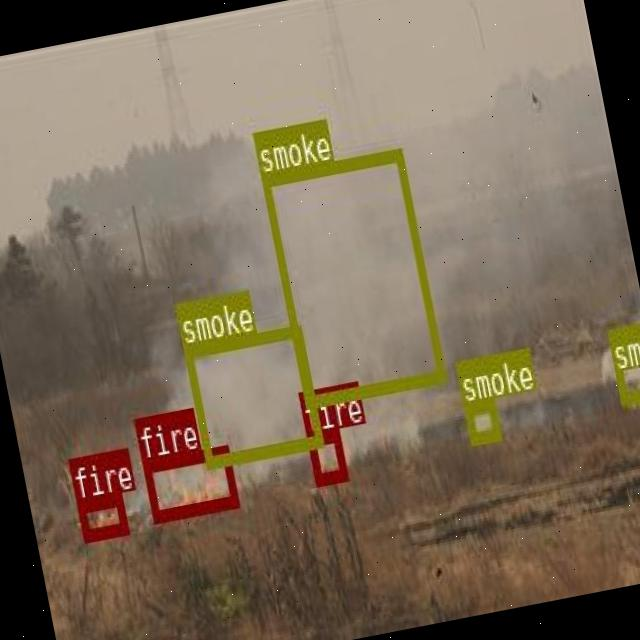fire: (140, 444, 238, 522), (75, 492, 127, 542), (306, 428, 348, 482)
smoke: (259, 148, 445, 408), (182, 324, 322, 466), (606, 322, 640, 402), (462, 398, 500, 442)
